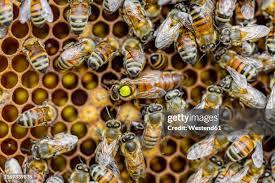Queen-Bee: (105, 70, 190, 102)
worker-bee: (185, 76, 227, 139), (224, 118, 272, 164), (220, 69, 269, 110), (217, 39, 259, 84), (118, 130, 151, 183), (94, 109, 123, 168), (119, 1, 159, 43), (53, 35, 93, 74), (188, 4, 219, 54), (29, 133, 81, 159), (182, 153, 227, 183), (143, 96, 164, 155)
